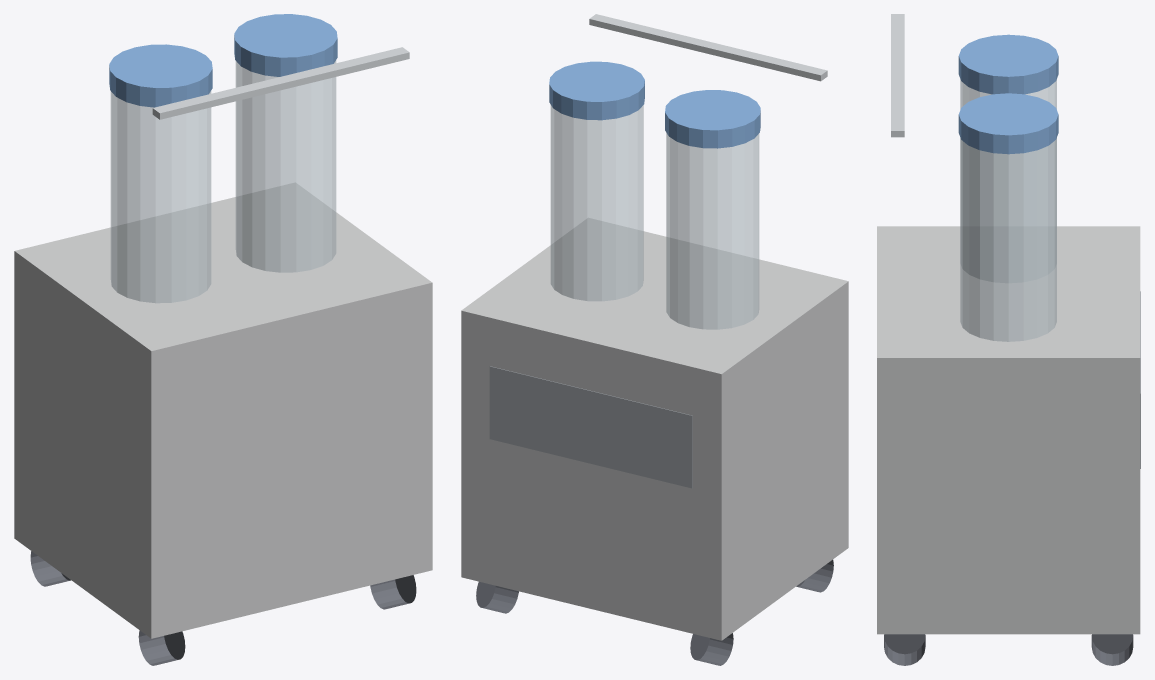
The model's file is aspirator.glb.
The picture shows the model from 3 angles, left to right: view 1: azimuth 30°, elevation 25°; view 2: azimuth 150°, elevation 25°; view 3: azimuth 270°, elevation 25°; orthographic projection. The views are drawn at different scales.
Size of the model in its own units: 0.45 by 0.85 by 0.381.
